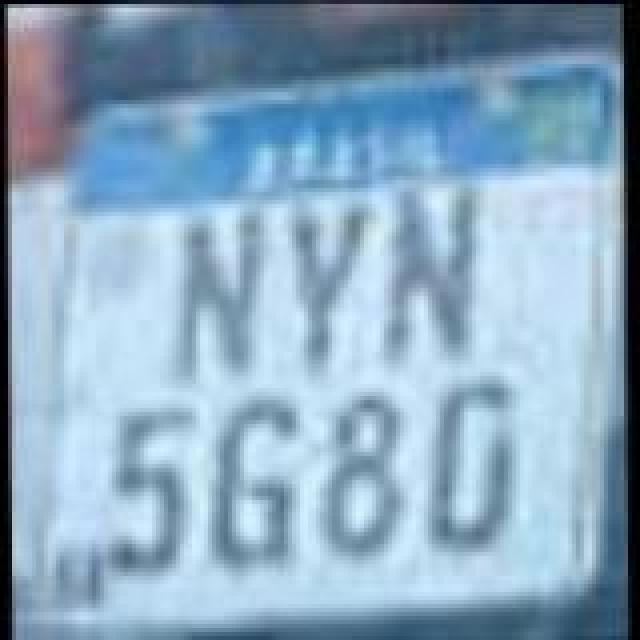5: (98, 402, 206, 578)
8: (320, 386, 408, 578)
D: (422, 368, 522, 552)
G: (200, 394, 312, 574)
N: (380, 176, 488, 368), (168, 200, 276, 384)
Y: (266, 192, 370, 372)
